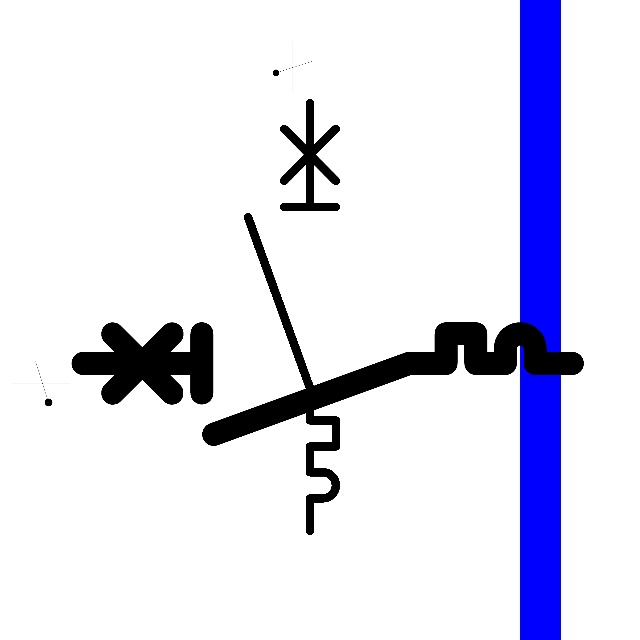interruptor_termomagnetico: (70, 321, 585, 447), (237, 91, 347, 541)
